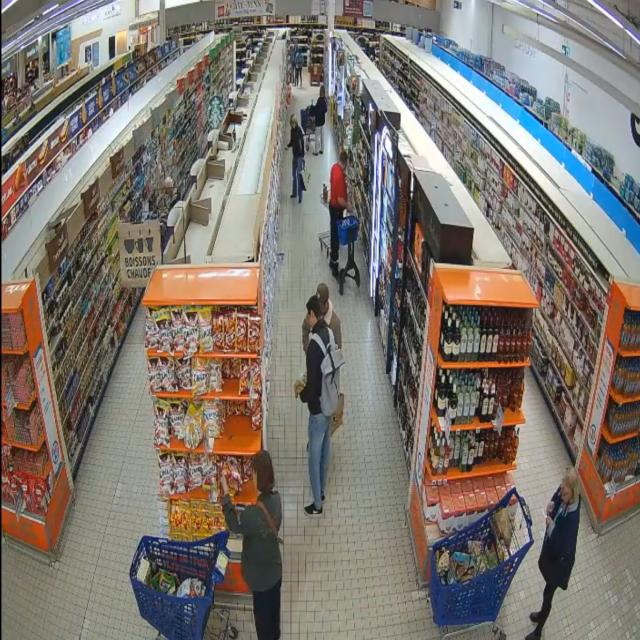bags: (312, 329, 345, 417), (256, 501, 283, 545), (331, 392, 344, 435), (301, 164, 310, 190)
hands: (294, 380, 305, 397), (221, 475, 229, 495), (547, 502, 554, 515), (347, 201, 353, 213), (546, 517, 551, 527), (287, 145, 291, 149)
person: (221, 451, 282, 639), (527, 469, 580, 639), (297, 340, 331, 516), (329, 150, 350, 277), (317, 283, 341, 349), (288, 116, 304, 202), (315, 86, 327, 155), (295, 49, 304, 87), (291, 43, 298, 86)
